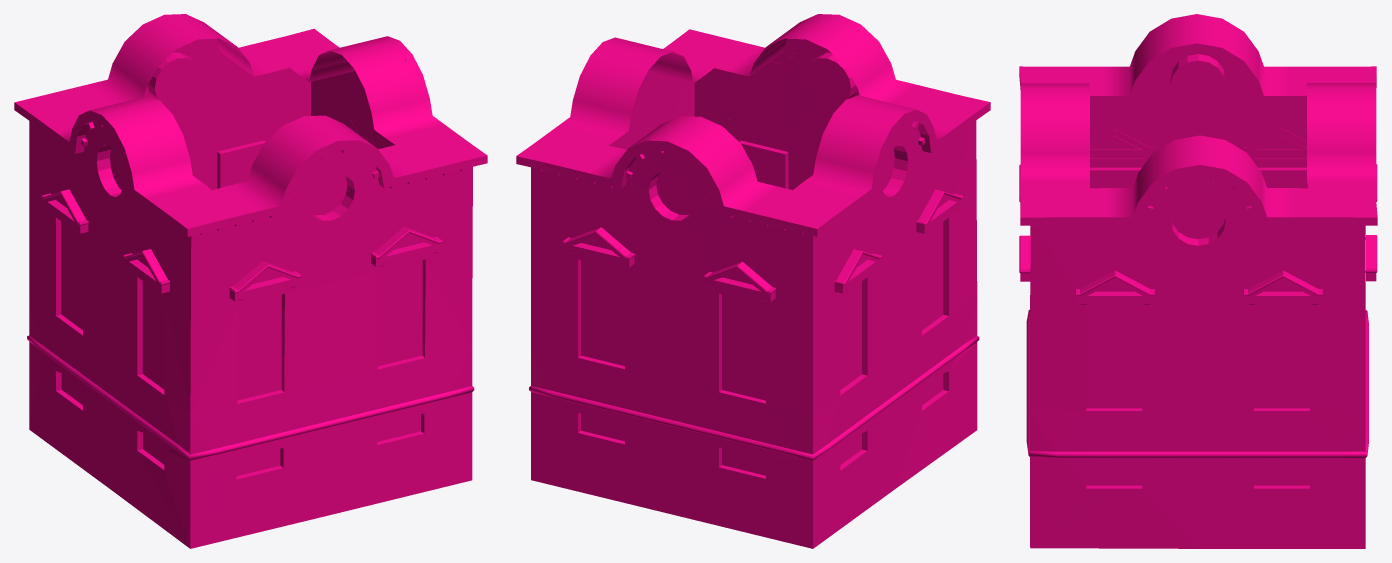
The picture shows the model from 3 angles, left to right: view 1: azimuth 30°, elevation 25°; view 2: azimuth 150°, elevation 25°; view 3: azimuth 270°, elevation 25°; orthographic projection. The views are drawn at different scales.
Parts seen in each view (by area): view 1: LOD1; view 2: LOD1; view 3: LOD1.
Part boxes in pixels (x1,y1,x2,y2): LOD1: [14, 14, 487, 548]; LOD1: [516, 14, 990, 548]; LOD1: [1019, 14, 1377, 548].
Size of the model in its own units: 43022 by 51542 by 43097.
